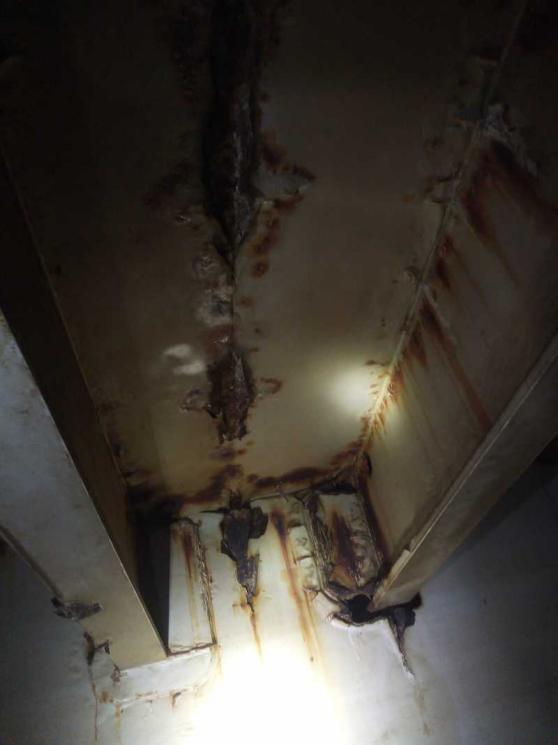corrosion: (136, 5, 338, 316), (344, 313, 493, 485), (407, 152, 548, 301), (157, 334, 291, 466), (291, 495, 384, 631), (267, 506, 326, 683), (204, 490, 275, 636), (148, 506, 218, 651)
